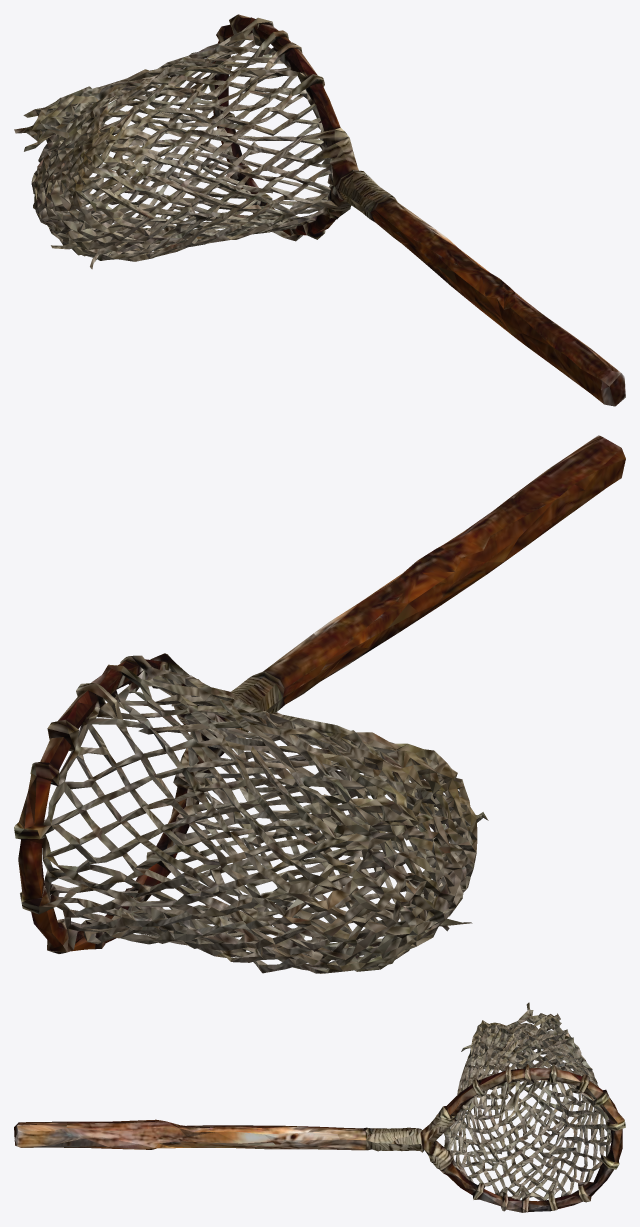
Rendered from dip_net.glb.
The picture shows the model from 3 angles, top to bottom: view 1: azimuth 30°, elevation 25°; view 2: azimuth 150°, elevation 25°; view 3: azimuth 270°, elevation 25°; orthographic projection. The views are drawn at different scales.
Visible parts, largest first — view 1: DIP_NET; view 2: DIP_NET; view 3: DIP_NET.
Part boxes in pixels (bbox=[...]): DIP_NET: bbox=[14, 14, 625, 406]; DIP_NET: bbox=[14, 435, 625, 973]; DIP_NET: bbox=[14, 1002, 625, 1212].
Size of the model in its own units: 0.7177 by 0.5308 by 2.
1 material, 1 textured.
